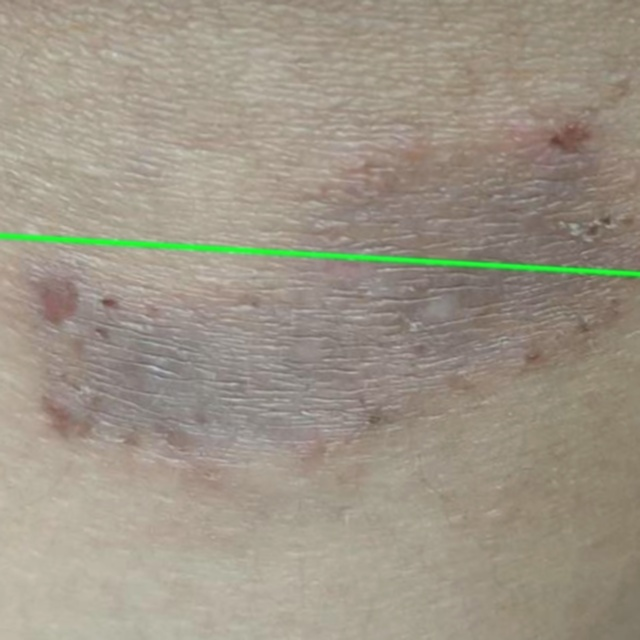Tinea Corporis: (0, 235, 639, 639)
